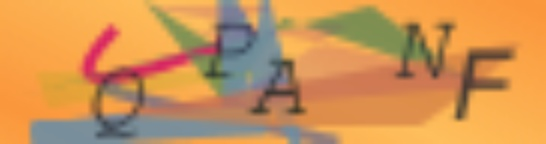A: (247, 55, 307, 120)
F: (453, 44, 520, 125)
N: (393, 21, 458, 82)
P: (205, 20, 261, 82)
Q: (88, 66, 147, 141)
